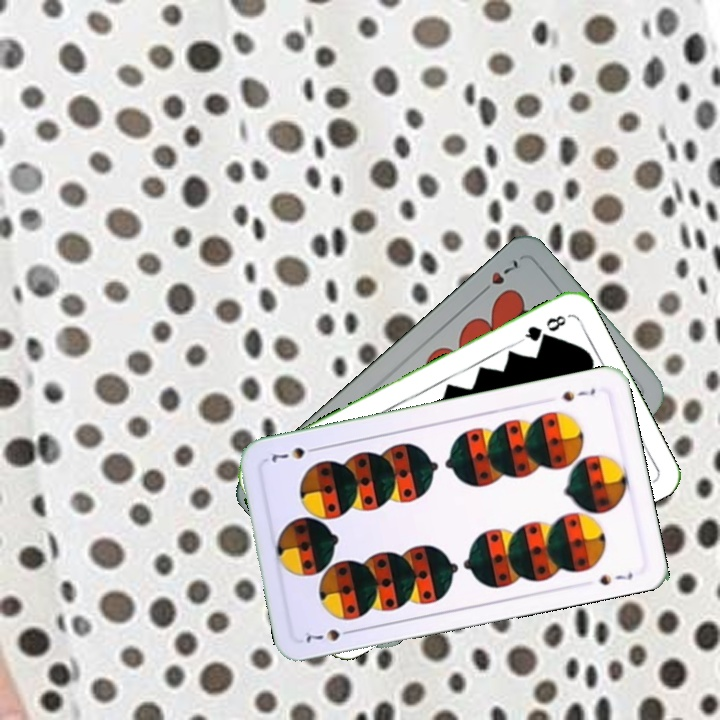G8: (516, 311, 569, 345)
H7: (474, 255, 521, 299)
S7: (301, 625, 358, 646), (558, 384, 598, 404)
